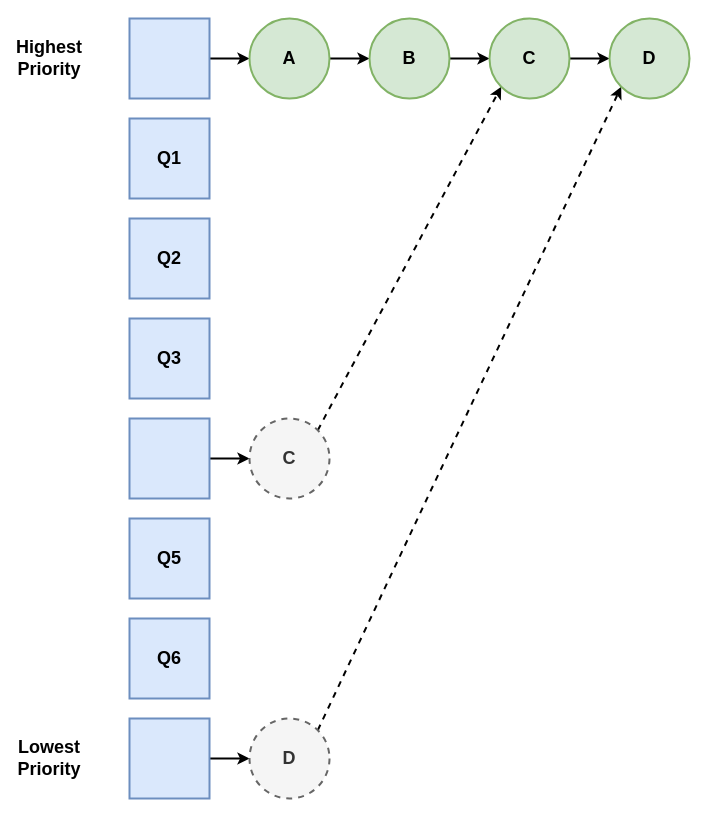
Image size: 708x816. Some labels were removed from this diagram. The shapes that lost their labels are listed below. From the top down, each one's centre as x and y in pixels, then its label:
At pixel 169 58: "Q0".
At pixel 169 458: "Q4".
At pixel 169 758: "Q7".
